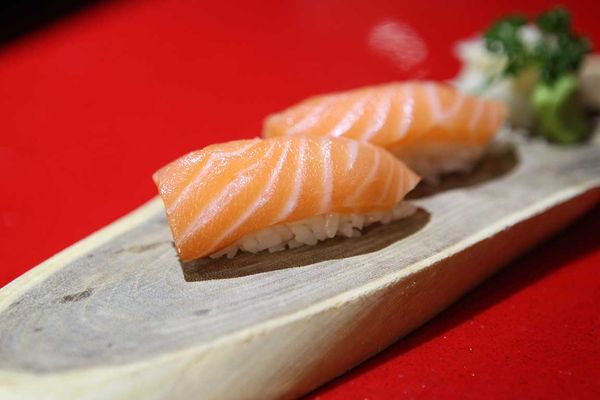curry: (459, 8, 597, 144)
